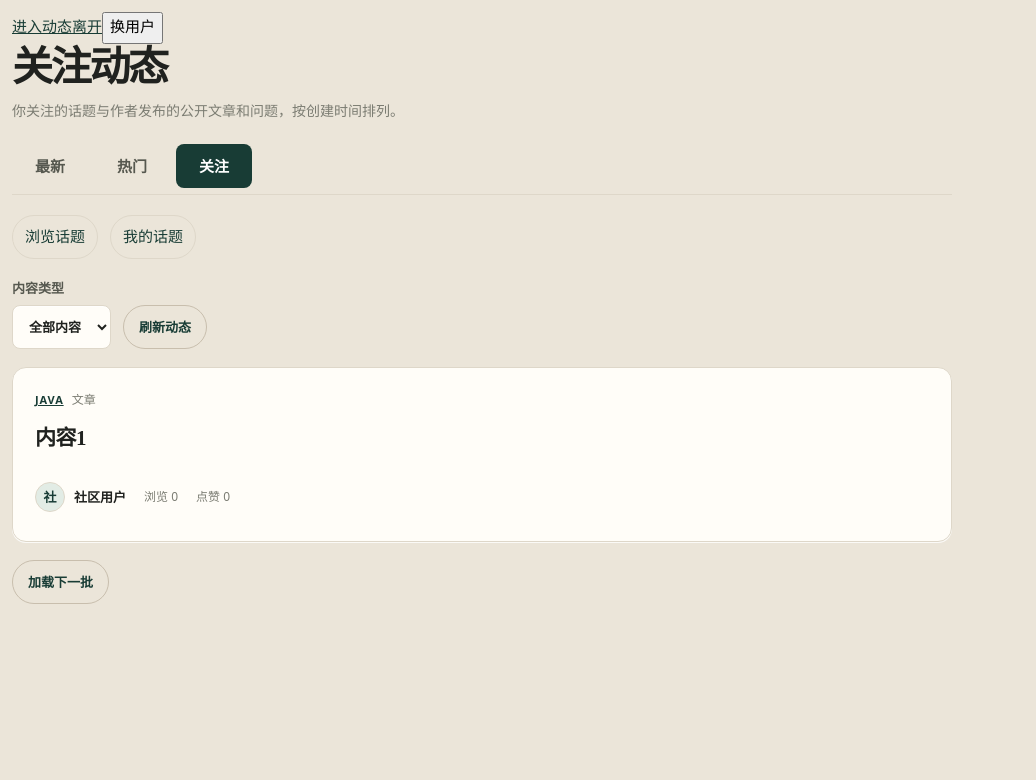
Test case: 关注动态 › renders mixed cards and deduplicates overlapping next batches
Click the button "加载下一批" at (60, 582), box [12,560,109,604]
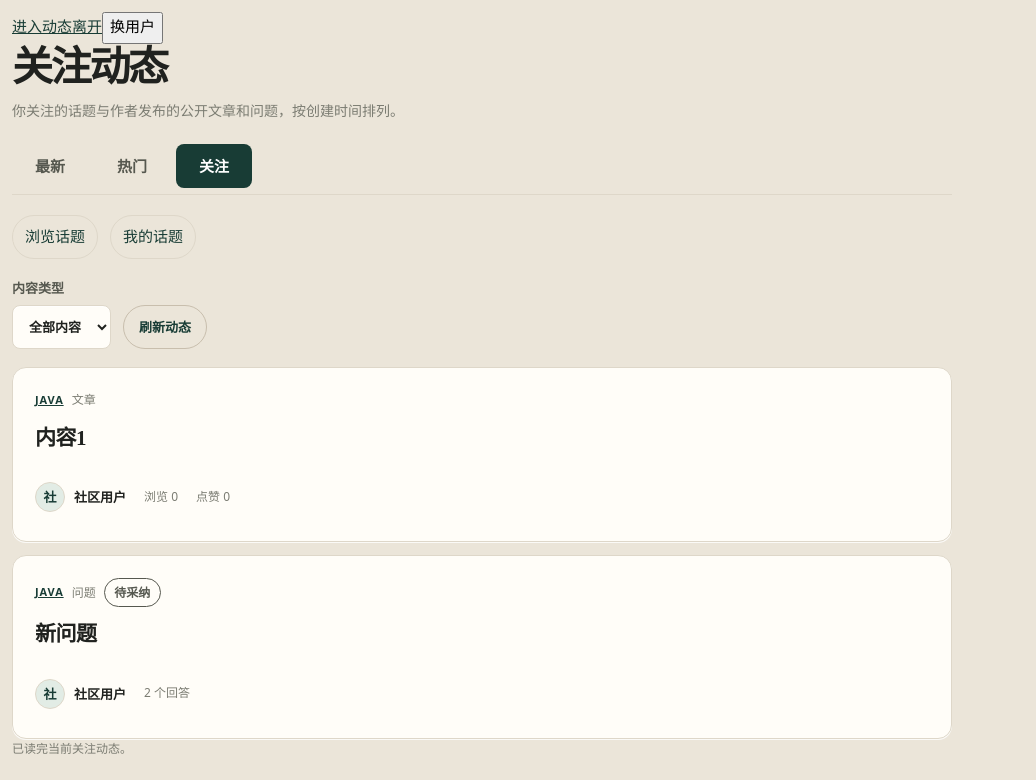
Check: the number of links "内容1" is 1, box [35,420,86,457]
Check: the link "新问题" is shown, box [35,616,96,654]
